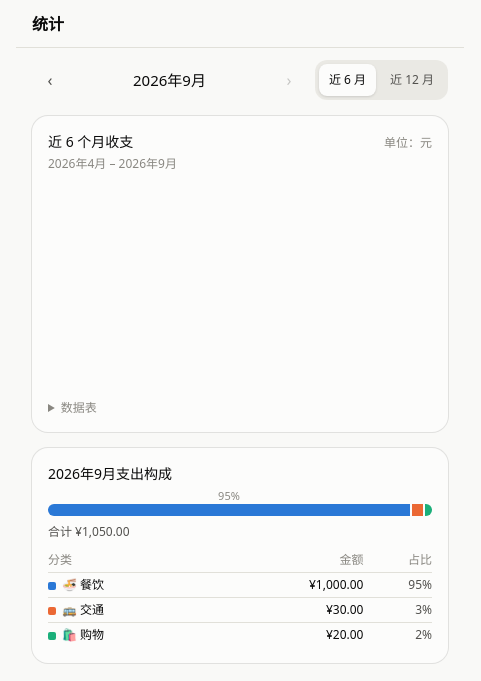
Test: 支出构成 › 悬停明细表的一行与悬停色段联动
Hover over the row "🚌 交通 ¥30.00 3%" at (240, 610), box [48,598,432,622]
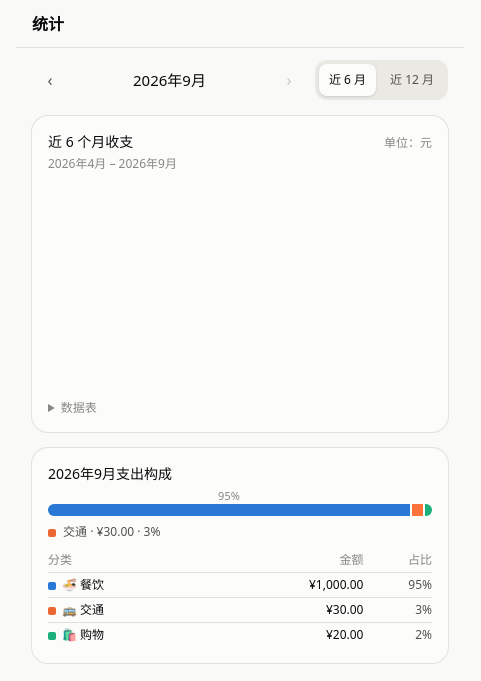
Now the text "交通 · ¥30.00 · 3%" is shown, box [48,523,160,540]
